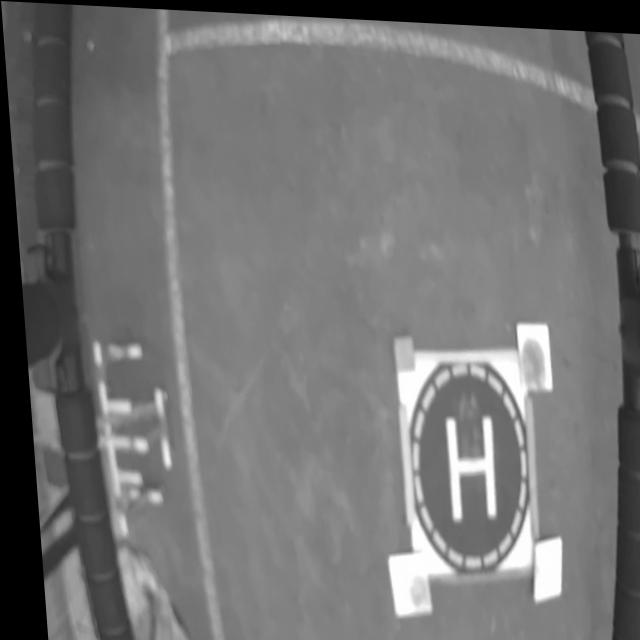Helipad: (439, 409, 487, 516)
